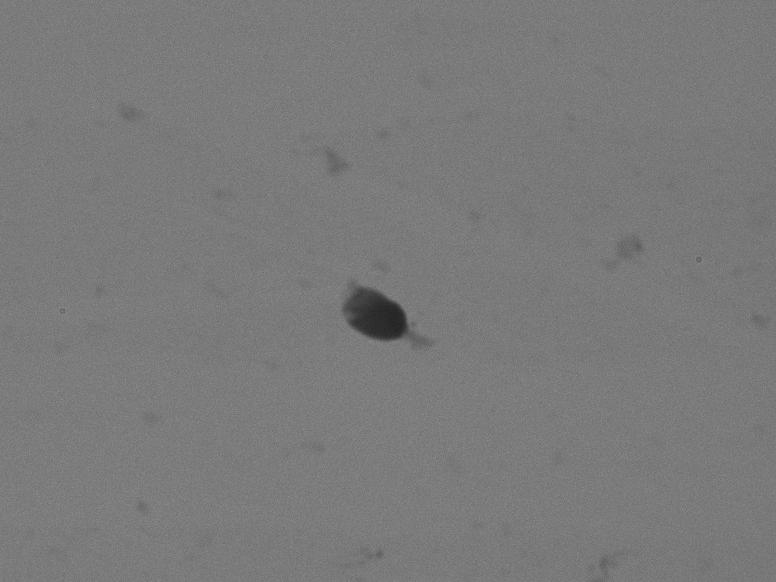Abnormal: (282, 229, 619, 429)
